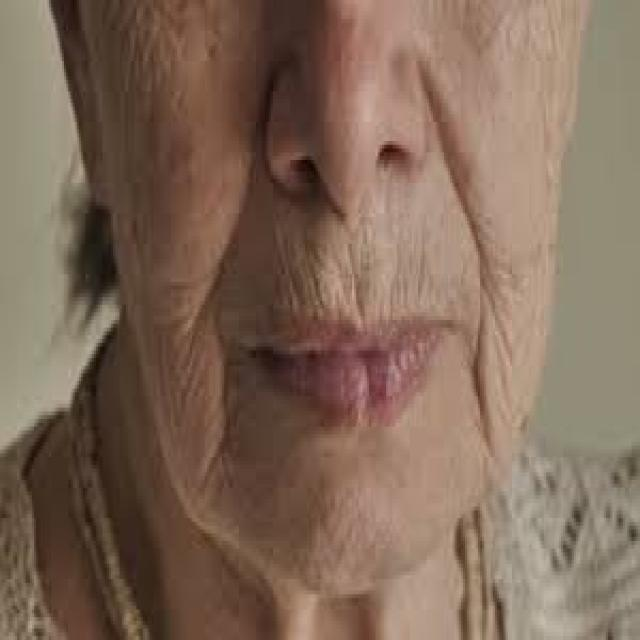Wrinkles: (106, 5, 263, 506), (420, 52, 554, 458)
